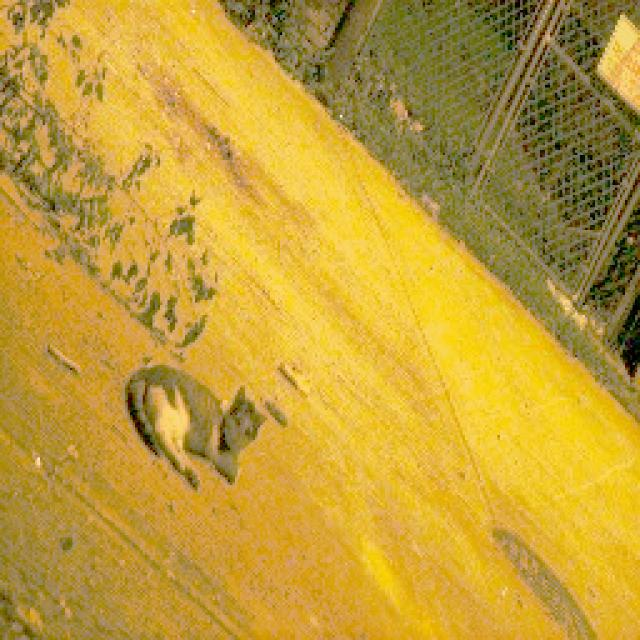cat: (99, 337, 285, 503)
